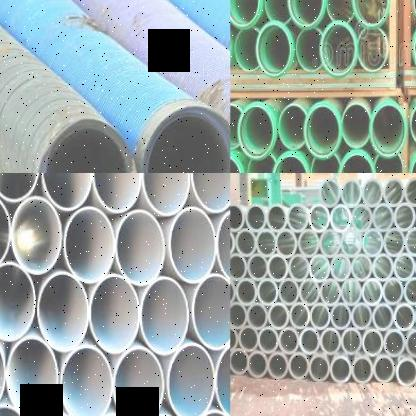pipe: (142, 106, 230, 173), (38, 118, 137, 173), (37, 271, 88, 353), (6, 337, 58, 416), (90, 274, 140, 354), (12, 197, 62, 275), (63, 207, 114, 283), (116, 210, 166, 286), (141, 278, 189, 356), (168, 207, 216, 284), (61, 346, 112, 416), (113, 347, 164, 416), (166, 343, 214, 416), (192, 274, 230, 349), (0, 262, 35, 342), (238, 102, 276, 159), (304, 104, 342, 160), (256, 21, 293, 77), (320, 22, 357, 78), (370, 103, 406, 158), (142, 173, 190, 214), (93, 173, 142, 213), (41, 173, 92, 211), (191, 173, 230, 213), (358, 28, 387, 72), (213, 341, 230, 416), (342, 104, 370, 149), (279, 105, 306, 150), (296, 29, 324, 71), (234, 29, 261, 72), (286, 0, 324, 30), (216, 208, 231, 284), (351, 0, 391, 28), (0, 173, 39, 201), (230, 0, 262, 29), (0, 192, 11, 271), (338, 151, 376, 173), (272, 152, 310, 173), (361, 326, 384, 358), (362, 227, 384, 258), (383, 327, 405, 358), (325, 0, 354, 23), (308, 203, 331, 232), (298, 228, 320, 258), (382, 277, 404, 307), (276, 227, 297, 258), (394, 301, 415, 332), (330, 353, 351, 384), (362, 177, 383, 208), (372, 202, 393, 233), (287, 202, 308, 233), (393, 202, 416, 230), (396, 354, 416, 386), (236, 277, 257, 307), (362, 277, 383, 307), (309, 352, 330, 382), (352, 354, 373, 384), (264, 0, 290, 24), (342, 227, 362, 258), (342, 326, 362, 357), (235, 228, 256, 257), (394, 252, 415, 281), (288, 253, 309, 282), (320, 278, 341, 307), (247, 301, 268, 330), (372, 303, 393, 332), (278, 326, 299, 355), (320, 327, 341, 356), (383, 177, 404, 206), (341, 178, 362, 207), (330, 203, 351, 232), (374, 153, 404, 173), (384, 227, 404, 257), (320, 228, 340, 258), (342, 277, 362, 307), (352, 302, 372, 332), (300, 326, 320, 356), (374, 353, 394, 383), (372, 253, 393, 281), (278, 278, 299, 306), (257, 278, 278, 306), (289, 302, 310, 330), (268, 302, 289, 330), (330, 303, 351, 331), (247, 153, 276, 173), (256, 228, 276, 257), (352, 253, 372, 282), (330, 253, 350, 282), (268, 253, 288, 282), (300, 278, 320, 307), (268, 350, 288, 379), (320, 178, 340, 207), (267, 203, 287, 232), (246, 203, 266, 232), (352, 203, 372, 232), (248, 253, 268, 281), (310, 254, 330, 282), (310, 303, 330, 331), (238, 325, 258, 353), (258, 326, 278, 354), (288, 351, 308, 379), (230, 103, 242, 149), (310, 154, 339, 173), (249, 349, 268, 378), (230, 347, 249, 375), (230, 253, 246, 281), (230, 301, 246, 329), (0, 333, 5, 413), (230, 203, 244, 231), (404, 176, 416, 207), (404, 276, 416, 306), (0, 405, 32, 416), (405, 327, 416, 359), (405, 226, 416, 257), (188, 408, 230, 416), (409, 101, 416, 146), (412, 19, 416, 77), (230, 325, 238, 352), (408, 149, 416, 173), (230, 276, 236, 306), (230, 227, 234, 257)
